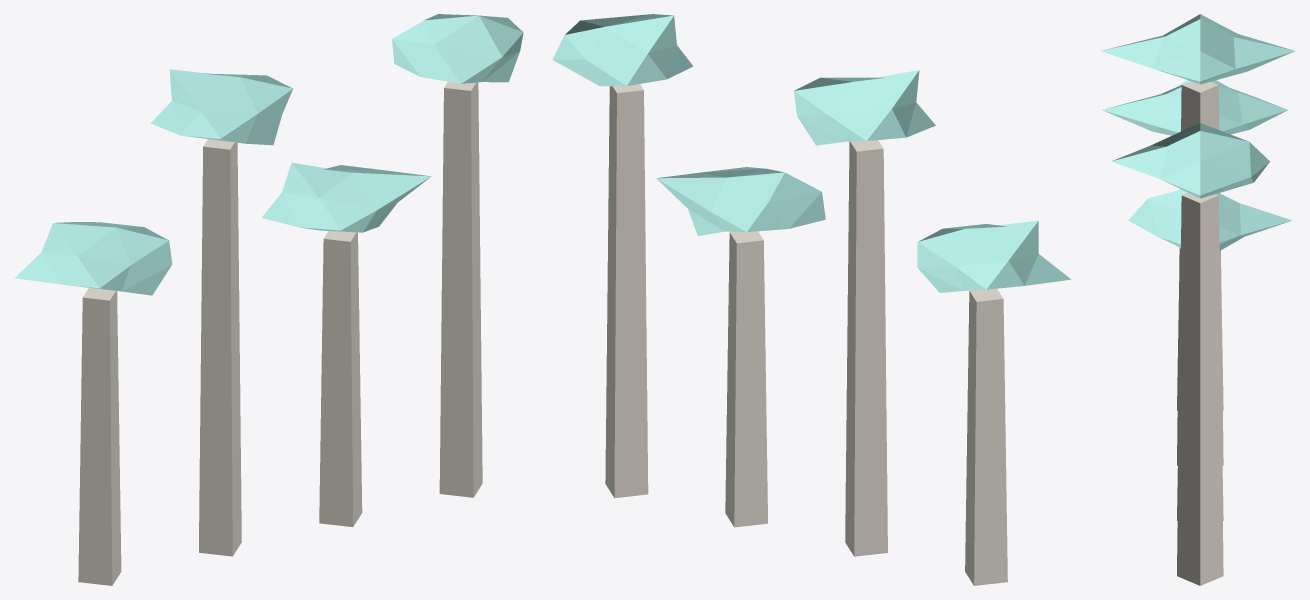
The model's file is glowcap_v32.glb.
3 renders of one model, left to right at view 1: azimuth 30°, elevation 25°; view 2: azimuth 150°, elevation 25°; view 3: azimuth 270°, elevation 25°, orthographic. The views are drawn at different scales.
Parts seen in each view (by area): view 1: lod0; view 2: lod0; view 3: lod0.
Boxes of the visible parts, x1,y1,x2,y2 form: lod0: [14, 14, 523, 585]; lod0: [552, 14, 1070, 585]; lod0: [1101, 14, 1294, 585].
Size of what is drawn, in the model's own units: 0.592 by 0.5263 by 0.2091.
